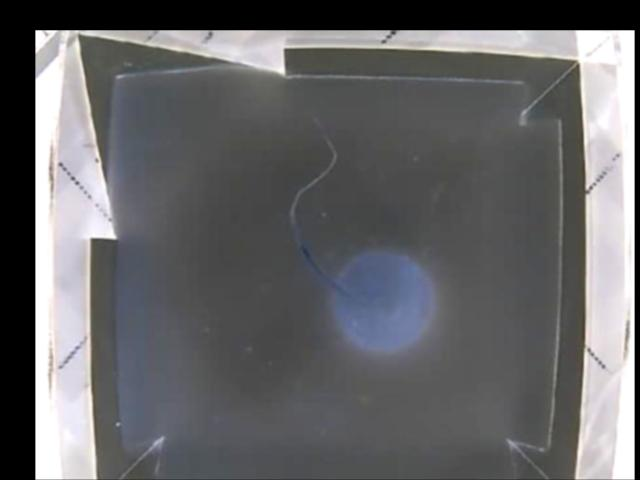Mooli: (335, 249, 431, 349)
